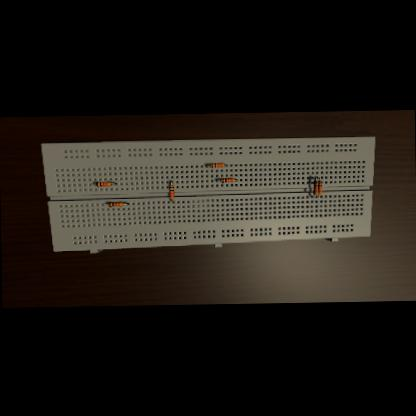breadboard: (41, 135, 377, 253)
resistor: (95, 180, 110, 186), (313, 179, 318, 193), (169, 184, 174, 198), (107, 202, 123, 206), (220, 178, 235, 182), (209, 162, 223, 166), (318, 179, 322, 193)
wire: (311, 176, 316, 180), (317, 176, 320, 180), (310, 194, 316, 196), (315, 194, 319, 196), (206, 164, 209, 166), (110, 182, 116, 183), (170, 181, 172, 184), (92, 182, 94, 184), (172, 198, 174, 200), (124, 202, 128, 203), (224, 164, 226, 165), (235, 179, 236, 180), (216, 180, 219, 180)
